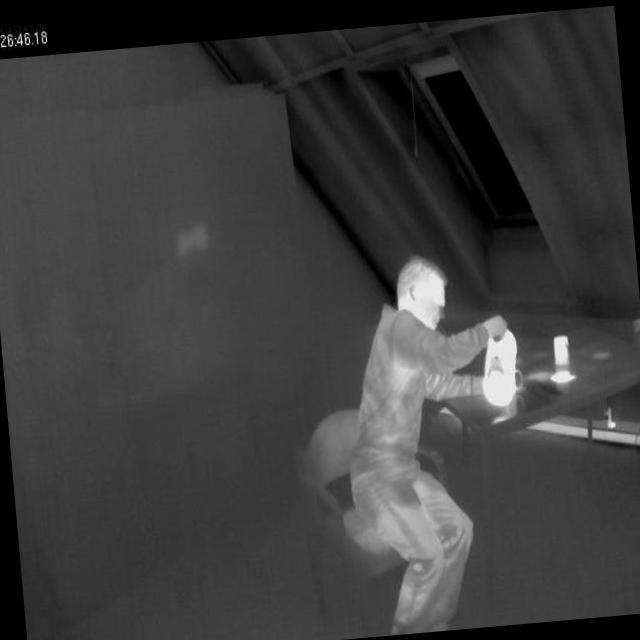person: (308, 246, 538, 640)
